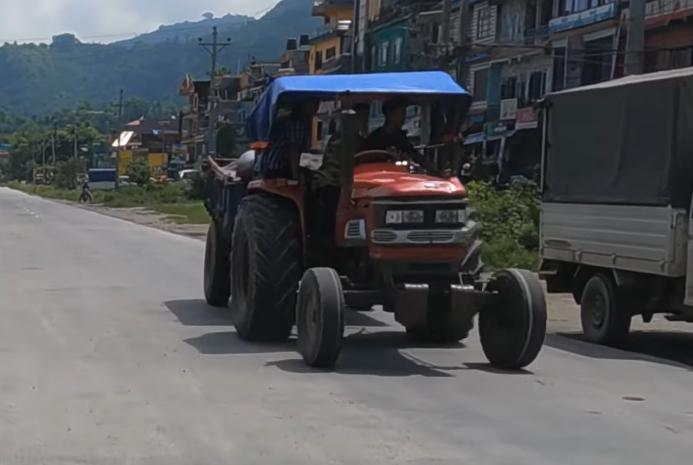tractor: (195, 60, 557, 383)
transport_vehicle: (538, 67, 693, 349)
